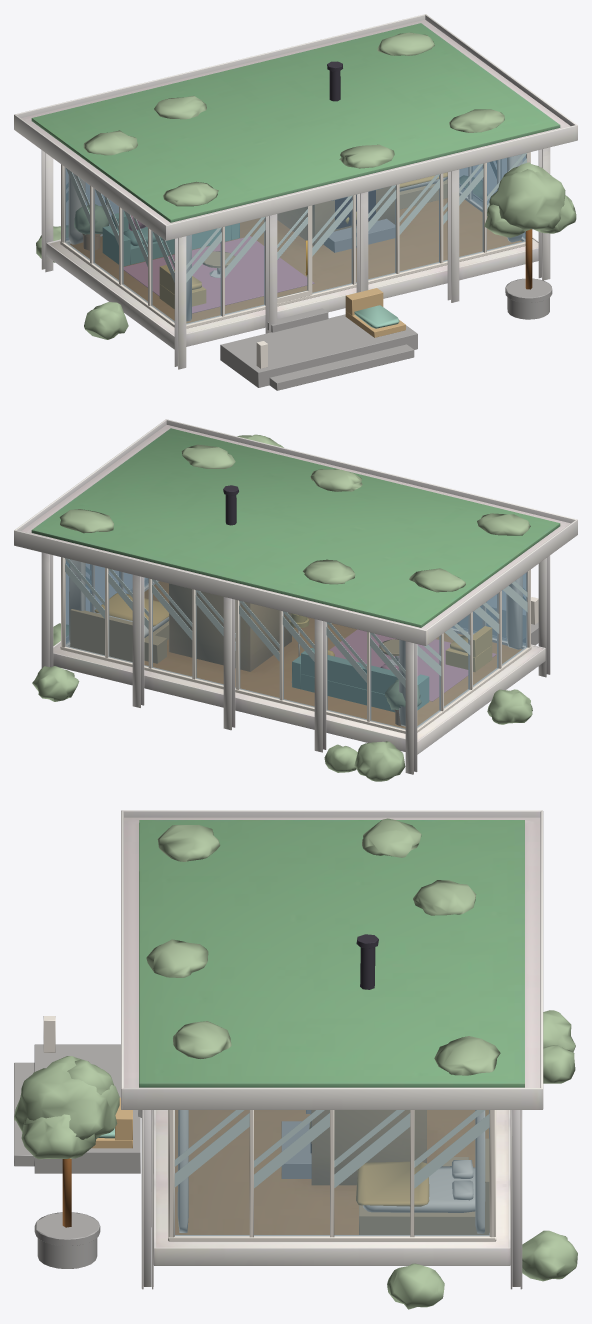
File: mansion_glass.glb
3 views of the same model, one above another, from view 1: azimuth 30°, elevation 25°; view 2: azimuth 150°, elevation 25°; view 3: azimuth 270°, elevation 25° (orthographic). The views are drawn at different scales.
Parts seen in each view (by area): view 1: glass-house_body, glass-house_details, glass-house_door_l; view 2: glass-house_body, glass-house_details, glass-house_door_l; view 3: glass-house_body, glass-house_details, glass-house_door_l.
Part boxes in pixels (x1,y1,x2,y2): glass-house_body: [14, 14, 577, 369]; glass-house_details: [36, 32, 576, 390]; glass-house_door_l: [64, 154, 526, 324]; glass-house_body: [14, 419, 577, 774]; glass-house_details: [32, 434, 538, 781]; glass-house_door_l: [65, 559, 527, 729]; glass-house_body: [121, 810, 543, 1289]; glass-house_details: [14, 818, 577, 1309]; glass-house_door_l: [174, 1110, 489, 1235].
Bounding box in the file's own units: 11.95 × 4.83 × 9.48.
3 materials, 3 textured.
